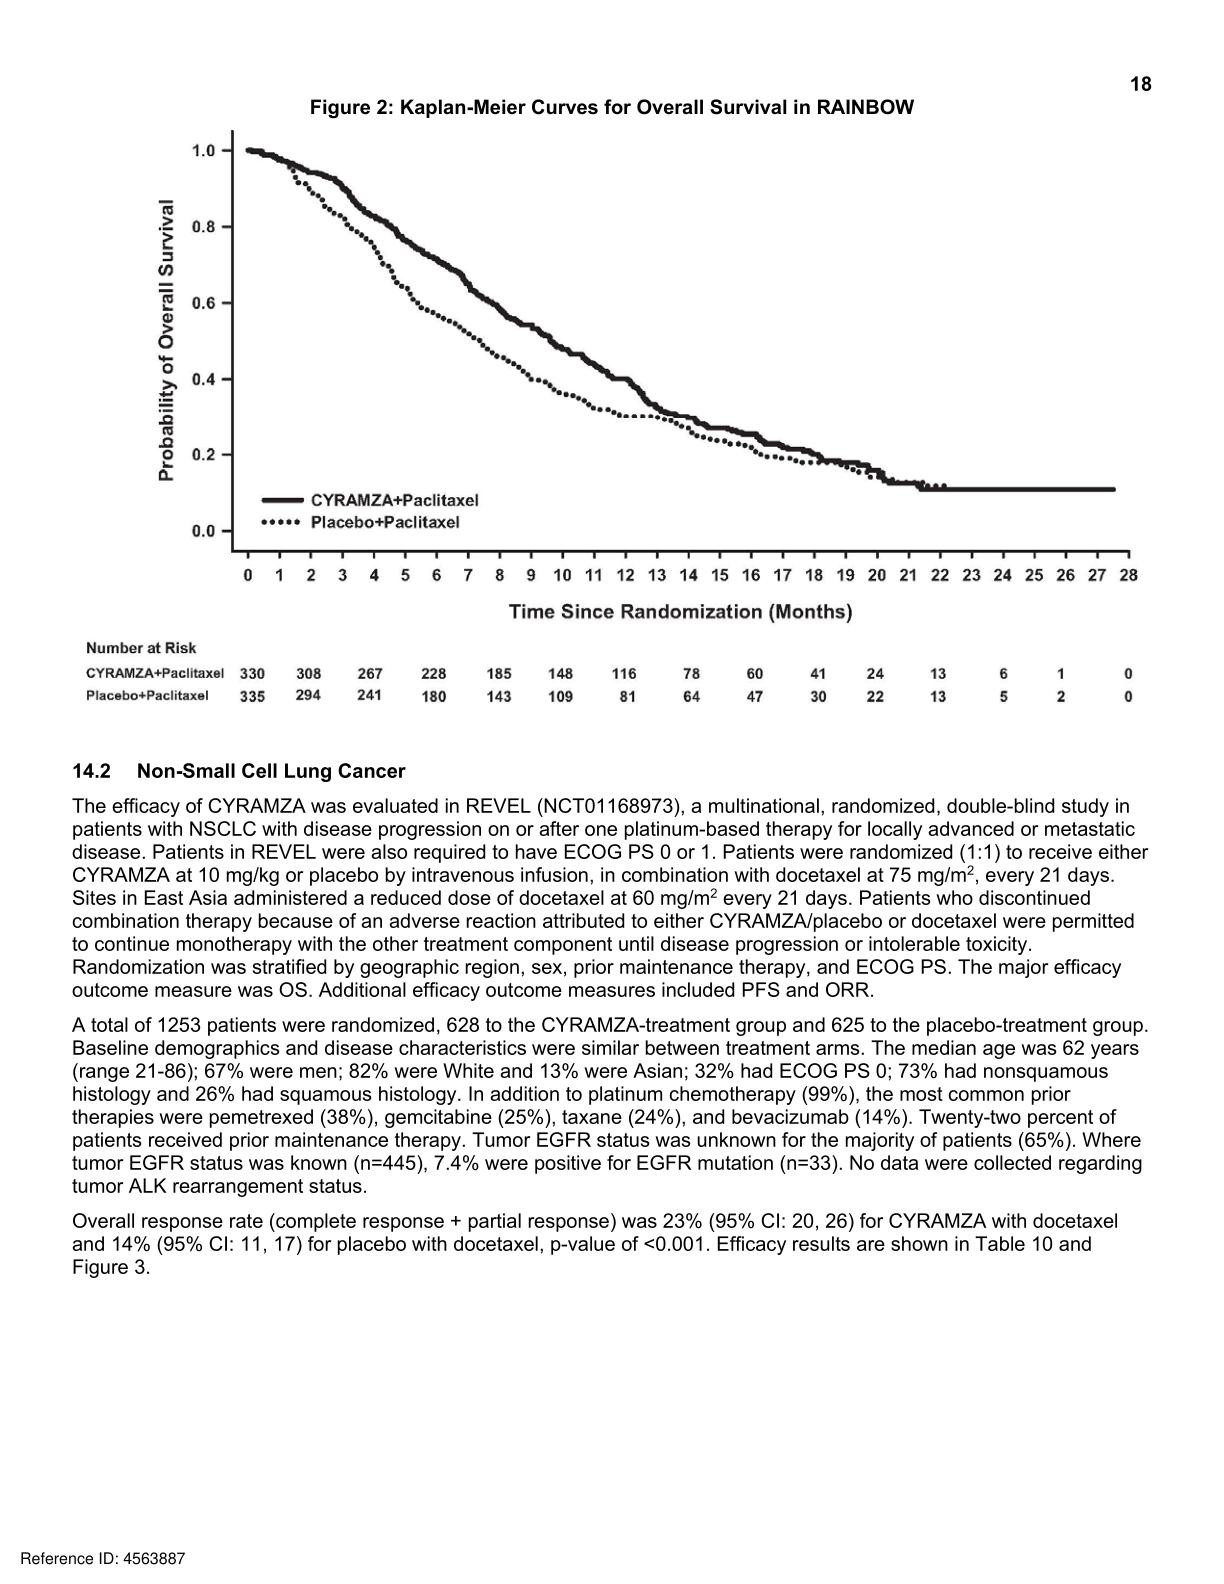nolines: (84, 663, 1137, 706)
